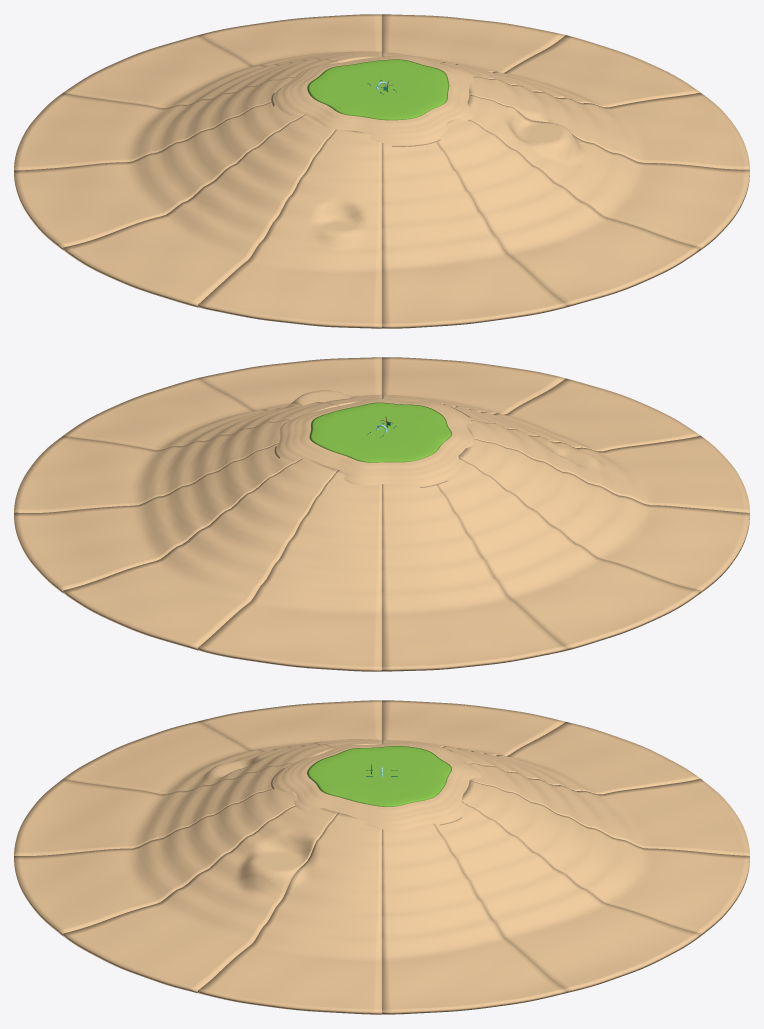
Rendered from SuckTheSea_Depth.fbx.
The picture shows the model from 3 angles, top to bottom: view 1: azimuth 30°, elevation 25°; view 2: azimuth 150°, elevation 25°; view 3: azimuth 270°, elevation 25°; orthographic projection.
Visible parts, largest first — view 1: Seabed__Slope_04, Seabed__Slope_03, Seabed__Slope_02, Seabed__Slope_05, Seabed__Slope_01, Seabed__Slope_06, Seabed__Slope_00, Seabed__Slope_07, Seabed__Slope_08, Seabed__Slope_11, Seabed__Slope_10, Seabed__Slope_09 (+2 smaller); view 2: Seabed__Slope_08, Seabed__Slope_07, Seabed__Slope_09, Seabed__Slope_06, Seabed__Slope_05, Seabed__Slope_10, Seabed__Slope_11, Seabed__Slope_04, Seabed__Slope_00, Seabed__Slope_03, Seabed__Slope_02, Seabed__Slope_01 (+2 smaller); view 3: Seabed__Slope_00, Seabed__Slope_11, Seabed__Slope_01, Seabed__Slope_10, Seabed__Slope_09, Seabed__Slope_02, Seabed__Slope_03, Seabed__Slope_08, Seabed__Slope_04, Seabed__Slope_07, Seabed__Slope_06, Seabed__Slope_05 (+2 smaller).
Part boxes in pixels (x1,y1,x2,y2): Seabed__Slope_04: [198, 129, 381, 328]; Seabed__Slope_03: [382, 142, 565, 328]; Seabed__Slope_02: [437, 118, 700, 307]; Seabed__Slope_05: [63, 114, 335, 307]; Seabed__Slope_01: [467, 94, 749, 249]; Seabed__Slope_06: [14, 102, 304, 249]; Seabed__Slope_00: [469, 76, 749, 169]; Seabed__Slope_07: [14, 77, 294, 170]; Seabed__Slope_08: [63, 35, 337, 108]; Seabed__Slope_11: [436, 35, 700, 107]; Seabed__Slope_10: [382, 14, 565, 72]; Seabed__Slope_09: [198, 14, 381, 66]; Seabed__Slope_08: [198, 470, 381, 671]; Seabed__Slope_07: [382, 484, 565, 671]; Seabed__Slope_09: [63, 458, 337, 650]; Seabed__Slope_06: [437, 457, 700, 650]; Seabed__Slope_05: [458, 438, 749, 592]; Seabed__Slope_10: [14, 443, 301, 592]; Seabed__Slope_11: [14, 419, 289, 512]; Seabed__Slope_04: [467, 420, 749, 512]; Seabed__Slope_00: [63, 378, 337, 450]; Seabed__Slope_03: [443, 378, 700, 451]; Seabed__Slope_02: [382, 357, 565, 414]; Seabed__Slope_01: [198, 357, 381, 410]; Seabed__Slope_00: [198, 812, 381, 1014]; Seabed__Slope_11: [382, 823, 565, 1014]; Seabed__Slope_01: [63, 806, 337, 992]; Seabed__Slope_10: [434, 802, 700, 993]; Seabed__Slope_09: [461, 781, 749, 935]; Seabed__Slope_02: [14, 788, 297, 935]; Seabed__Slope_03: [14, 763, 292, 855]; Seabed__Slope_08: [469, 763, 749, 855]; Seabed__Slope_04: [64, 721, 335, 794]; Seabed__Slope_07: [442, 722, 699, 794]; Seabed__Slope_06: [382, 700, 565, 756]; Seabed__Slope_05: [198, 700, 381, 751].
Bounding box in the file's own units: 708 × 101 × 708.
1 material, 1 textured.
